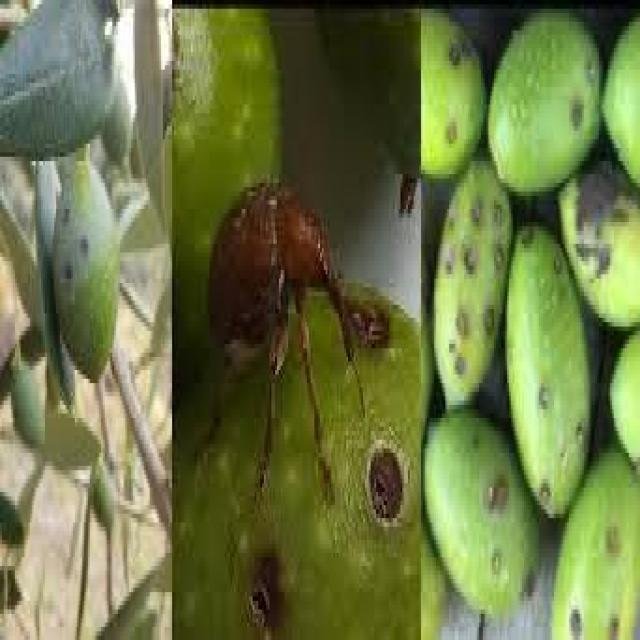Olive Fruit Fly: (505, 226, 589, 509), (427, 409, 537, 610), (490, 9, 599, 192), (434, 161, 511, 401), (52, 144, 120, 379), (561, 167, 638, 334)
